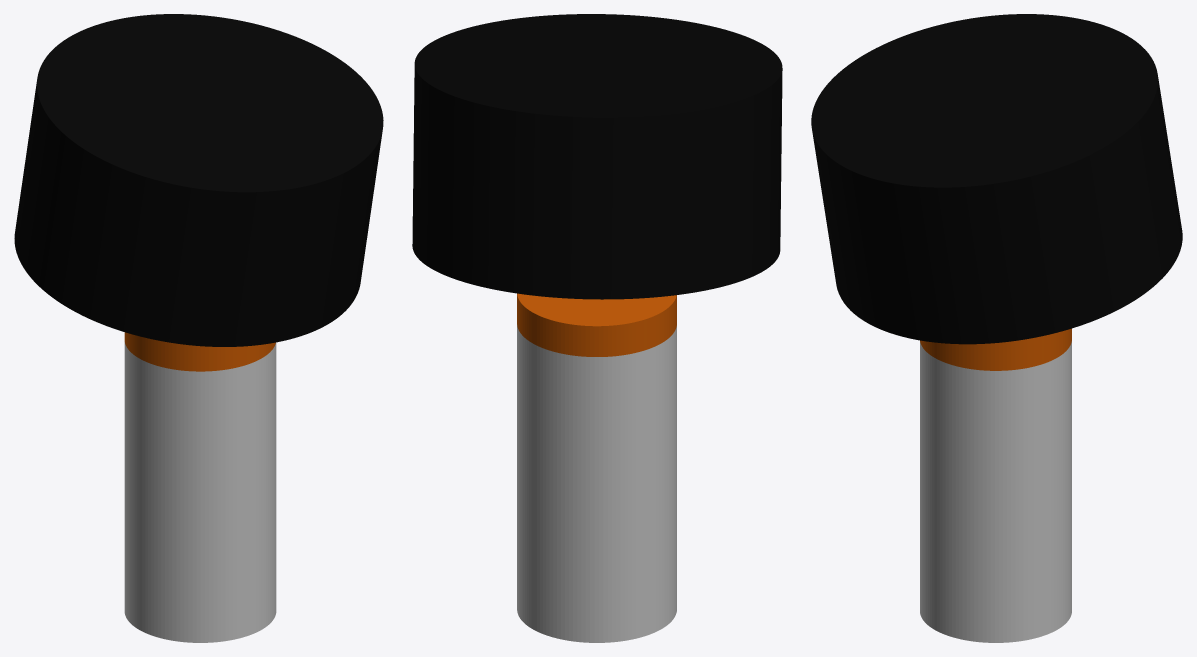
Rendered from lamp5.obj.
3 views of the same model, side by side, from view 1: azimuth 30°, elevation 25°; view 2: azimuth 150°, elevation 25°; view 3: azimuth 270°, elevation 25° (orthographic). The views are drawn at different scales.
Parts seen in each view (by area): view 1: Cylinder.002, Cylinder, Cylinder.001; view 2: Cylinder.002, Cylinder, Cylinder.001; view 3: Cylinder.002, Cylinder, Cylinder.001.
Part boxes in pixels (x1,y1,x2,y2): Cylinder.002: [14, 14, 383, 346]; Cylinder: [124, 342, 276, 642]; Cylinder.001: [124, 332, 275, 371]; Cylinder.002: [412, 14, 782, 299]; Cylinder: [517, 325, 676, 642]; Cylinder.001: [517, 293, 676, 356]; Cylinder.002: [811, 14, 1182, 344]; Cylinder: [920, 341, 1071, 642]; Cylinder.001: [920, 328, 1071, 370].
Size of what is drawn, in the model's own units: 4.74 by 7.77 by 4.88.
